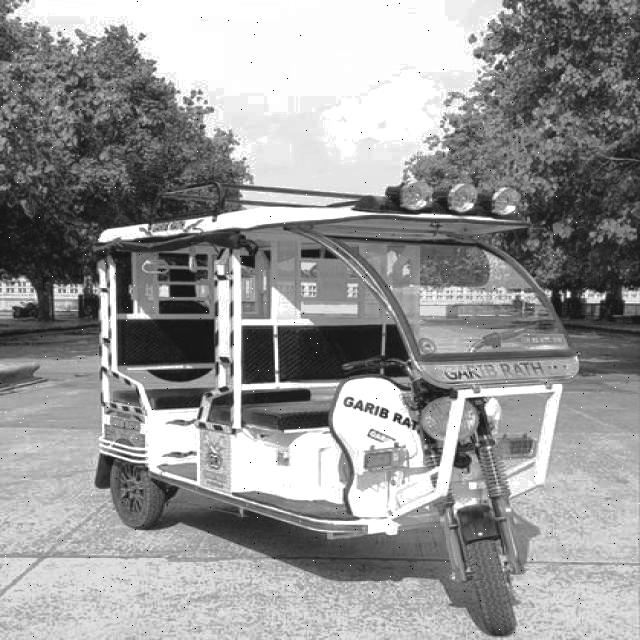Toto: (86, 202, 574, 638)
